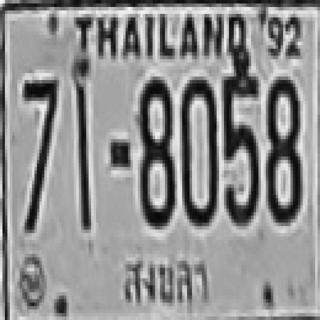N00: (180, 76, 217, 222)
N05: (223, 70, 260, 222)
N07: (22, 76, 57, 226), (22, 78, 57, 183)
N08: (263, 73, 300, 219), (138, 75, 172, 224)
P64: (116, 251, 214, 302)
